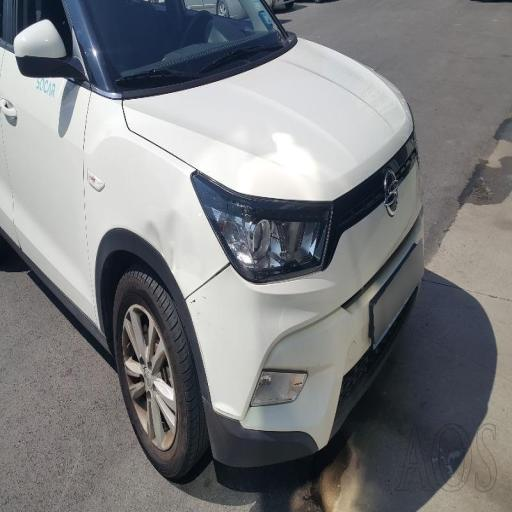dent: (130, 198, 193, 282)
